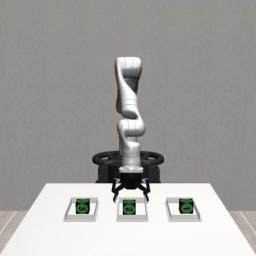cube1: (180, 199, 194, 213)
cube2: (122, 200, 135, 215)
cube3: (75, 198, 91, 214)
